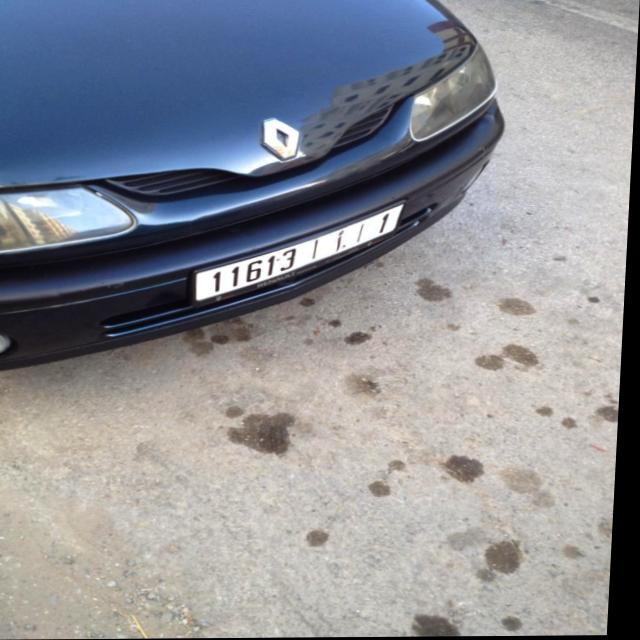License-Plate: (198, 206, 405, 302)
